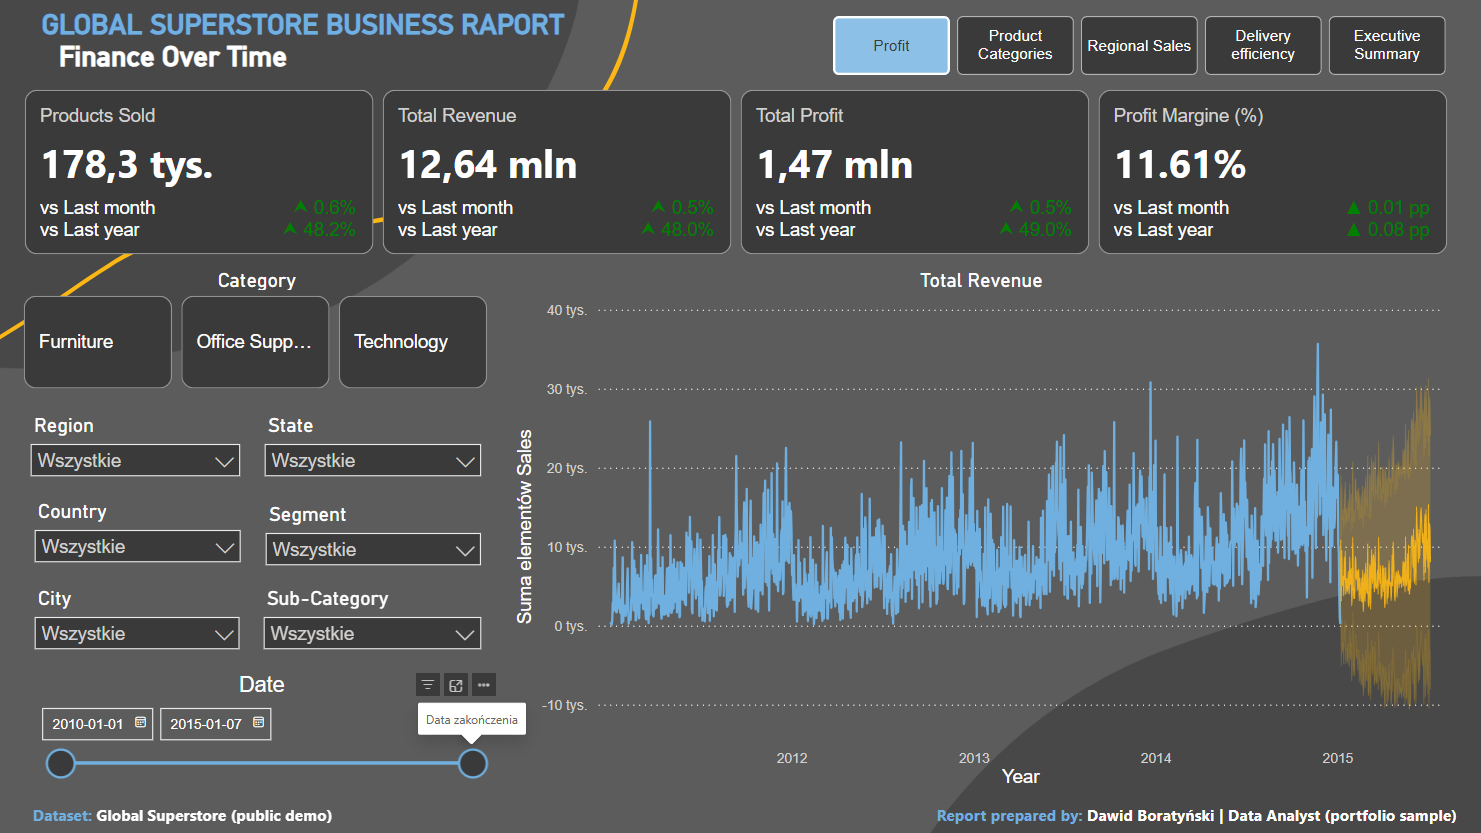

What the dashboard file says about the page in this screenshot:
{"tool":"powerbi","page":{"name":"Profit","canvas":[1280,720],"ordinal":0},"visuals":[{"type":"lineChart","title":"Total Income & Products Sold","fields":{"Category":["Sheet1.Ship Date.Variation.Date Hierarchy.Year","Sheet1.Ship Date.Variation.Date Hierarchy.Quarter","Sheet1.Ship Date.Variation.Date Hierarchy.Month","Sheet1.Ship Date.Variation.Date Hierarchy.Day"],"Y":["Sum(Sheet1.Quantity)"],"Y2":["Sum(Sheet1.Profit)"]},"box":[446.6,236.8,811,462.6],"z":0},{"type":"textbox","box":[24.5,19.6,764.4,52.8],"z":1000},{"type":"slicer","title":"Date","fields":{"Values":["Sheet1.Ship Date"]},"box":[18.4,595.1,418.4,104.3],"z":2000},{"type":"cardVisual","fields":{"Data":["Sum(Sheet1.Quantity)","Sum(Sheet1.Sales)","Sum(Sheet1.Profit)","select"]},"box":[18.4,73.6,1239.3,150.9],"z":3000},{"type":"slicer","title":"Country","fields":{"Values":["Sheet1.Country"]},"box":[18.4,447.9,212.3,73.6],"z":4000},{"type":"advancedSlicerVisual","title":"Category","fields":{"Values":["Sheet1.Category"]},"box":[18.4,236.8,412.3,122.7],"z":5000},{"type":"slicer","title":"Country","fields":{"Values":["Sheet1.City"]},"box":[228.2,374.2,202.5,73.6],"z":6000},{"type":"slicer","title":"Country","fields":{"Values":["Sheet1.Region"]},"box":[18.4,374.2,212.3,73.6],"z":7000},{"type":"slicer","title":"Country","fields":{"Values":["Sheet1.Segment"]},"box":[224.5,447.9,206.1,73.6],"z":8000},{"type":"slicer","title":"Country","fields":{"Values":["Sheet1.State"]},"box":[24.5,521.5,200,73.6],"z":9000},{"type":"slicer","title":"Country","fields":{"Values":["Sheet1.Sub-Category"]},"box":[230.7,521.5,200,73.6],"z":10000},{"type":"pageNavigator","box":[719,13.5,533.7,51.5],"z":11000}]}

Visuals, with their boxes in screenshot pixels (x1, y1, x2, y2), scaled from the page's 1280x720 canvas onto the 1481x833 screenshot:
"Total Income & Products Sold" lineChart: region(517, 274, 1455, 809)
textbox: region(28, 23, 913, 84)
"Date" slicer: region(21, 688, 505, 809)
cardVisual - Sum(Sheet1.Quantity) x Sum(Sheet1.Sales): region(21, 85, 1455, 260)
"Country" slicer: region(21, 518, 267, 603)
"Category" advancedSlicerVisual: region(21, 274, 498, 416)
"Country" slicer: region(264, 433, 498, 518)
"Country" slicer: region(21, 433, 267, 518)
"Country" slicer: region(260, 518, 498, 603)
"Country" slicer: region(28, 603, 260, 688)
"Country" slicer: region(267, 603, 498, 688)
pageNavigator: region(832, 16, 1449, 75)
